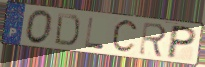C: (110, 18, 140, 56)
D: (53, 12, 82, 48)
L: (84, 16, 106, 50)
O: (25, 9, 55, 46)
P: (165, 24, 199, 60)
R: (137, 21, 169, 59)
